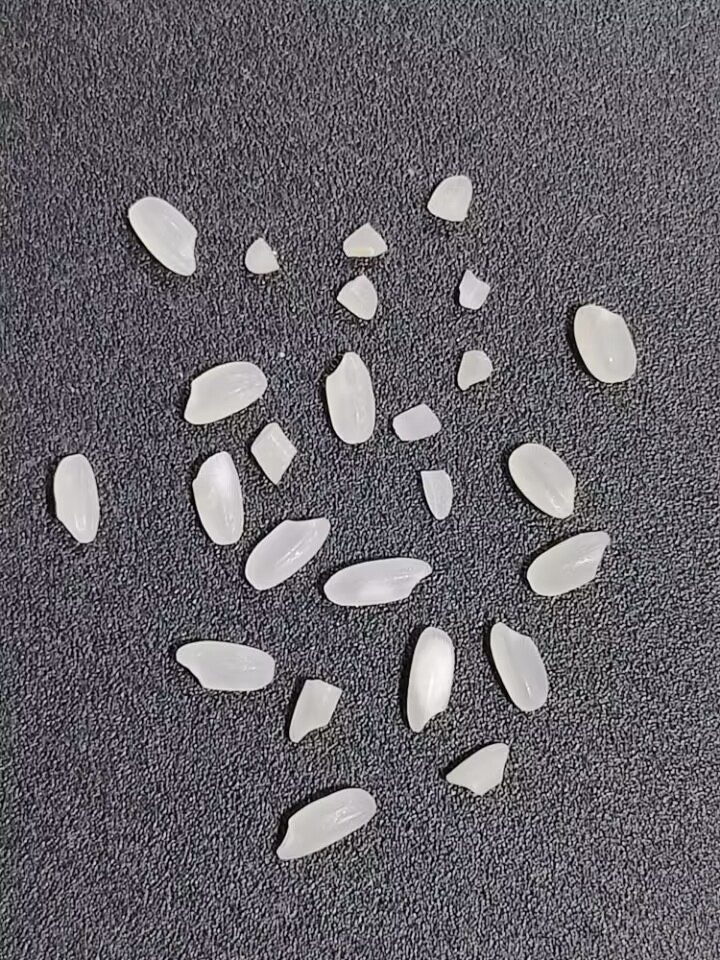broken: (438, 743, 516, 797), (286, 675, 341, 744), (250, 421, 297, 486), (411, 466, 458, 527), (333, 274, 388, 324), (390, 399, 444, 448), (448, 343, 497, 393), (428, 172, 474, 223), (341, 219, 390, 261), (237, 235, 282, 277), (457, 267, 490, 310)
rice: (243, 513, 334, 595), (274, 788, 377, 860), (124, 194, 199, 281), (322, 556, 438, 611), (180, 358, 269, 426), (403, 627, 458, 736), (527, 530, 613, 599), (487, 621, 551, 713), (186, 449, 246, 547), (507, 440, 579, 521), (173, 638, 279, 693), (320, 350, 378, 450), (572, 303, 639, 386), (51, 453, 101, 545)
